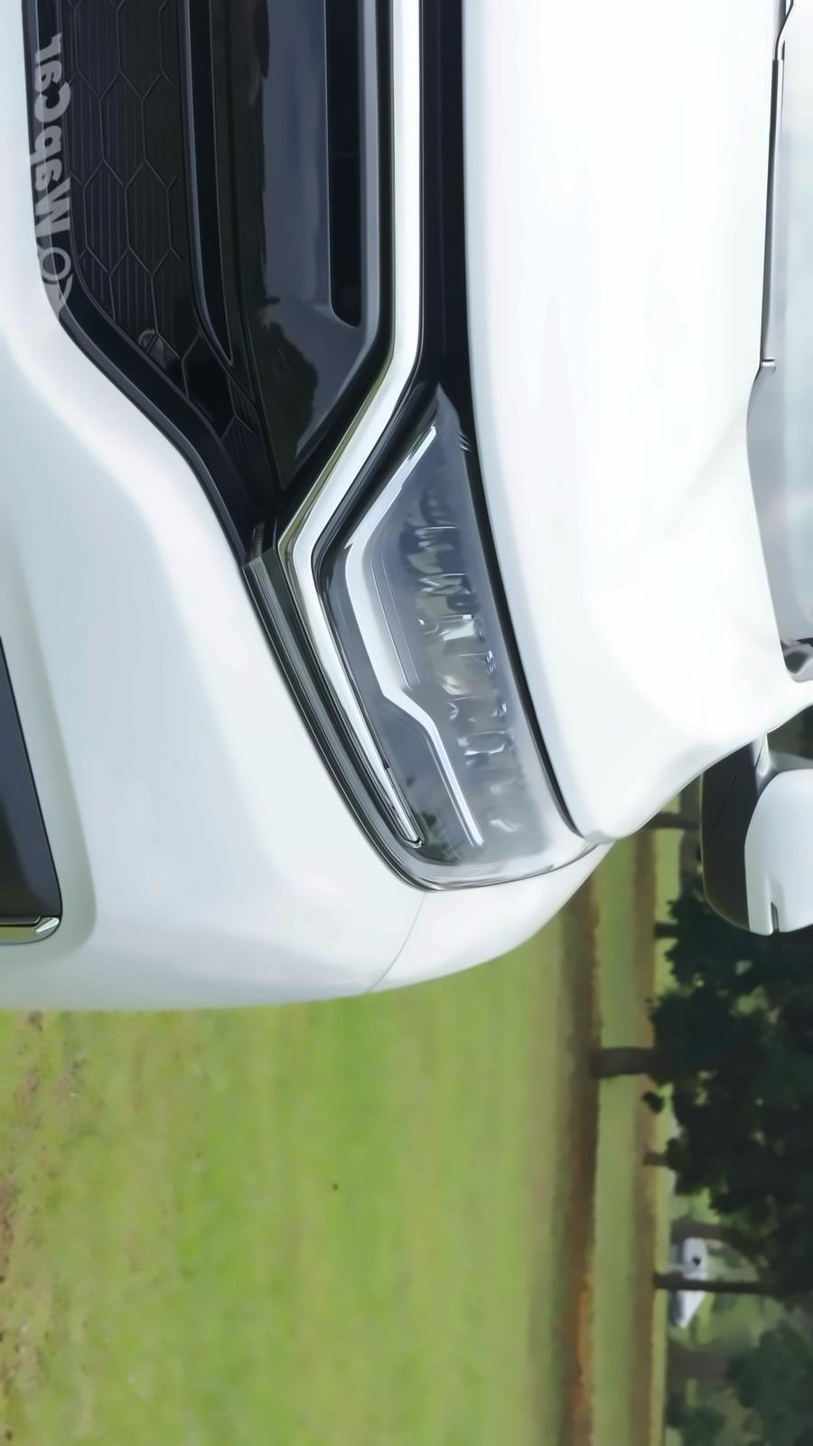Car hood: (452, 0, 802, 837)
Front bumper: (0, 0, 436, 1016)
Headlight - -R-: (264, 373, 597, 891)
